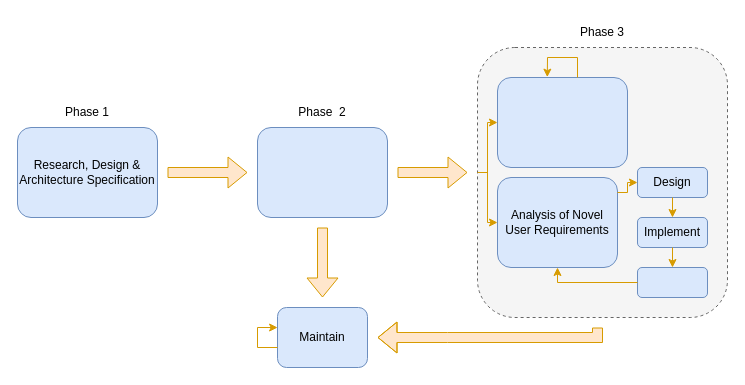
Some shapes in this 745 by 385 pixel diagram are drawn without their labels. Each missing label, with the box of its shape:
Integrate with more Manufacturers: (496, 76, 628, 168)
Minimum Viable Product: (256, 126, 388, 218)
Test & Integrate: (636, 266, 708, 298)
